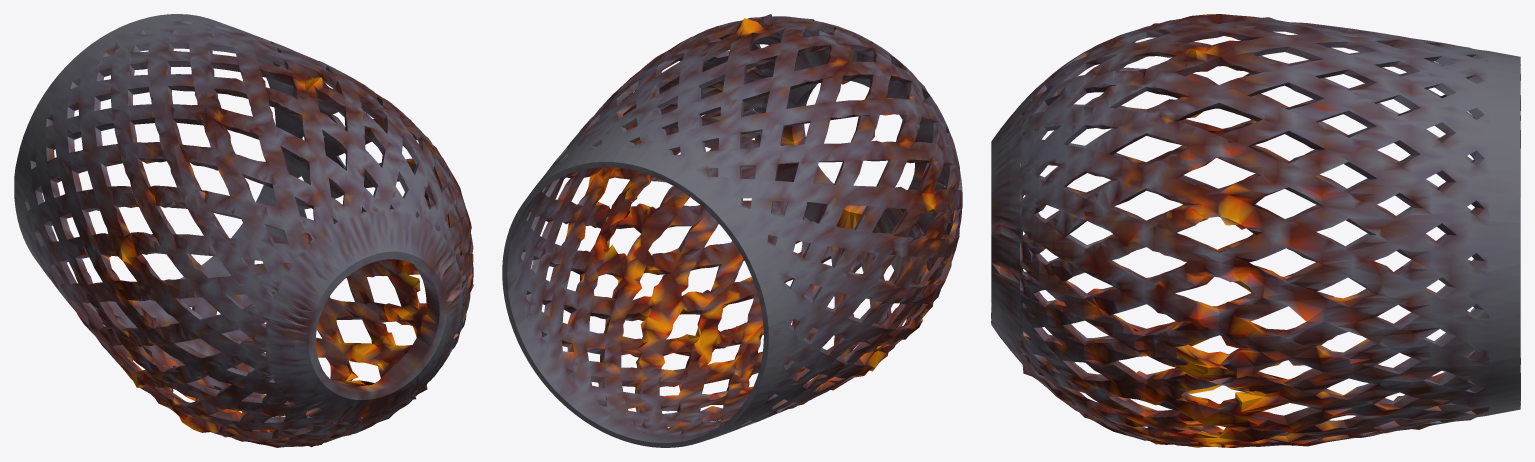
File: lamp_shade_14_final400.obj
The picture shows the model from 3 angles, left to right: view 1: azimuth 30°, elevation 25°; view 2: azimuth 150°, elevation 25°; view 3: azimuth 270°, elevation 25°; orthographic projection. The views are drawn at different scales.
Bounding box in the file's own units: 1.23 × 1.23 × 1.49.
